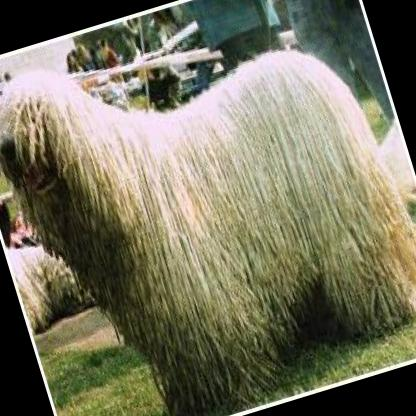komondor: (0, 0, 416, 416), (0, 221, 93, 330)
